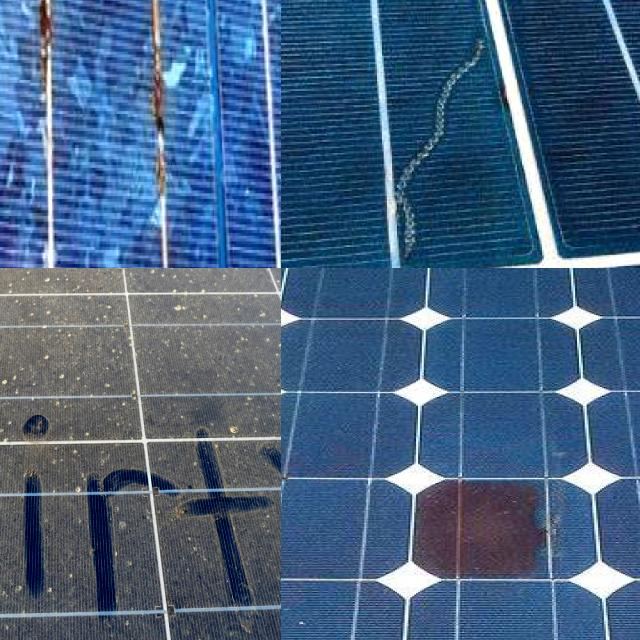dust: (0, 495, 144, 608), (165, 498, 281, 594), (0, 505, 79, 612), (0, 339, 127, 401), (122, 268, 274, 317), (139, 336, 281, 387), (0, 268, 97, 325), (0, 452, 126, 491), (0, 329, 76, 387), (152, 444, 281, 477), (0, 410, 95, 449), (177, 610, 281, 640), (0, 450, 91, 483), (0, 268, 53, 321), (0, 268, 24, 324)
shadow: (375, 18, 490, 268), (370, 463, 576, 600), (123, 0, 203, 268), (15, 0, 68, 268)
